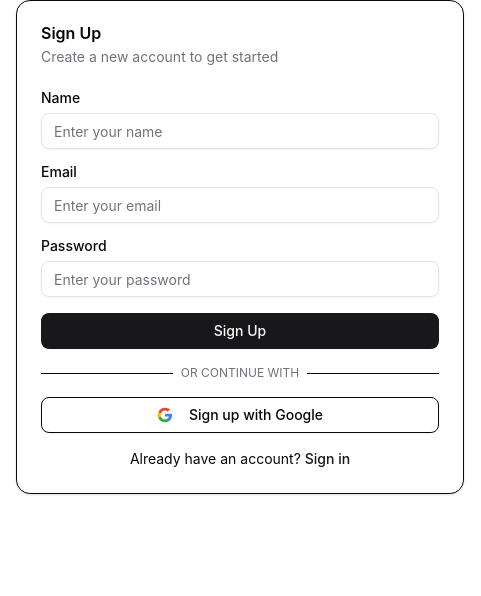
Test: SignUpForm › shows validation errors for empty fields
Click the button "Sign Up".
click(240, 331)  # box [41,313,439,349]
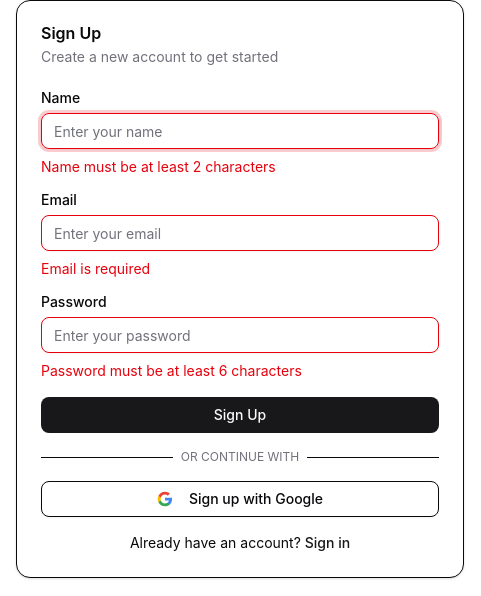
Check: the text "Name must be at least 2 characters" is shown, box [41,158,276,175]
Check: the text "Email is required" is shown, box [41,260,150,277]
Check: the text "Password must be at least 6 characters" is shown, box [41,362,302,379]
